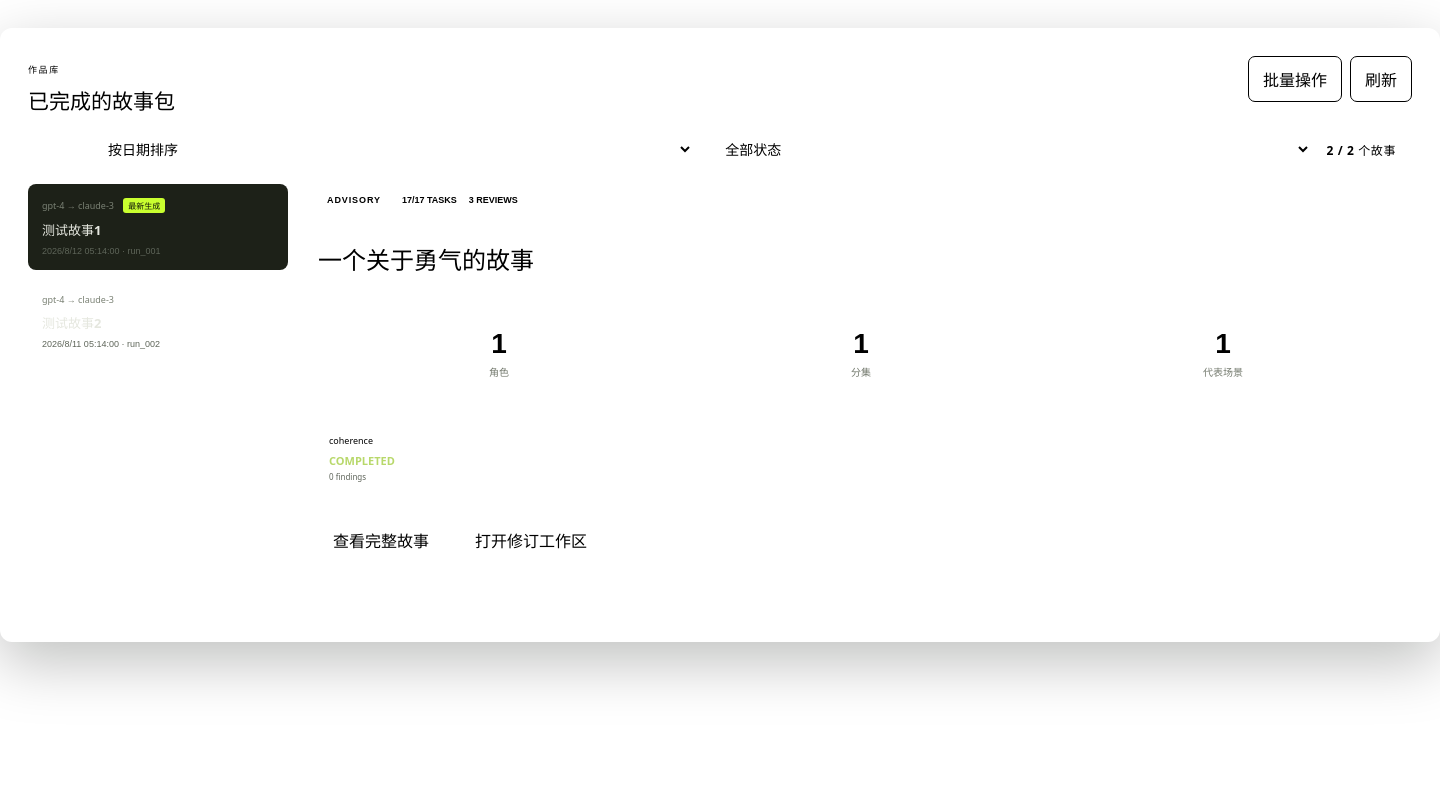
Test: ArtifactBrowser › 搜索和筛选 › 应该筛选已完成的故事
The image size is (1440, 810).
expect the text "测试故事1" is shown: met, box 42,221 -> 101,239
Select "已完成" in the 2nd dropdown showing "全部状态" at (1010, 150), box 709,131 -> 1311,168
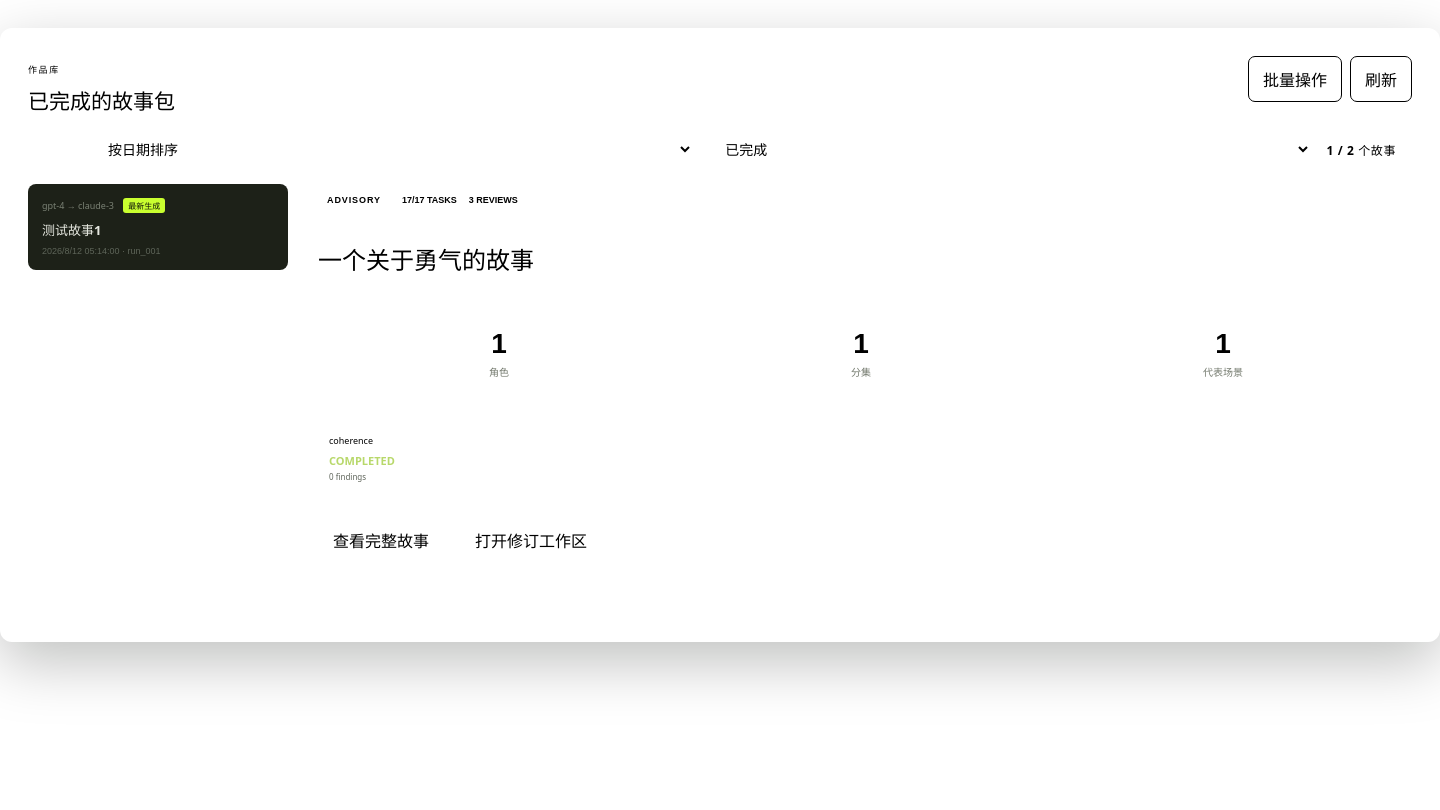
expect the text "测试故事1" is shown: met, box 42,221 -> 101,239
expect the button "测试故事2" is gone: met
